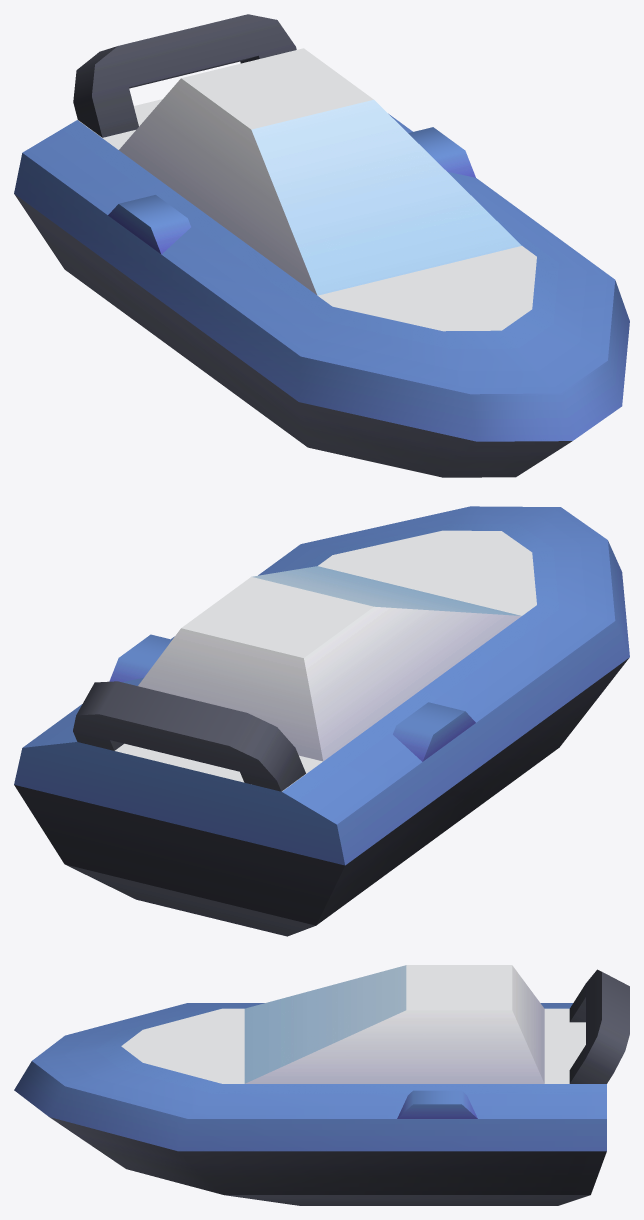
The model's file is boat-speed-g-transformed-transformed.glb.
3 renders of one model, top to bottom at view 1: azimuth 30°, elevation 25°; view 2: azimuth 150°, elevation 25°; view 3: azimuth 270°, elevation 25°, orthographic. The views are drawn at different scales.
Parts seen in each view (by area): view 1: boat-speed-g; view 2: boat-speed-g; view 3: boat-speed-g.
Part boxes in pixels (x1,y1,x2,y2): boat-speed-g: [14, 14, 629, 477]; boat-speed-g: [14, 506, 629, 936]; boat-speed-g: [14, 965, 629, 1205].
Bounding box in the file's own units: 1.79 × 1.3 × 3.81.
1 material, 1 textured.
